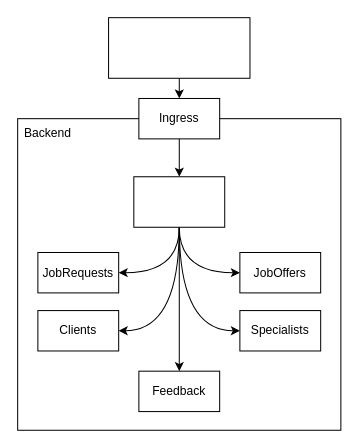
The diagram is 359 pixels wide and 448 high, and some of its shapes have lost their labels. The shapes that lost their labels are listed below. From the top down, each one's box as (x1, y1, x2, y2) in pixels, then its label:
(108, 17, 250, 78): Client (Mobile, Native)
(133, 176, 225, 227): Scheduler
